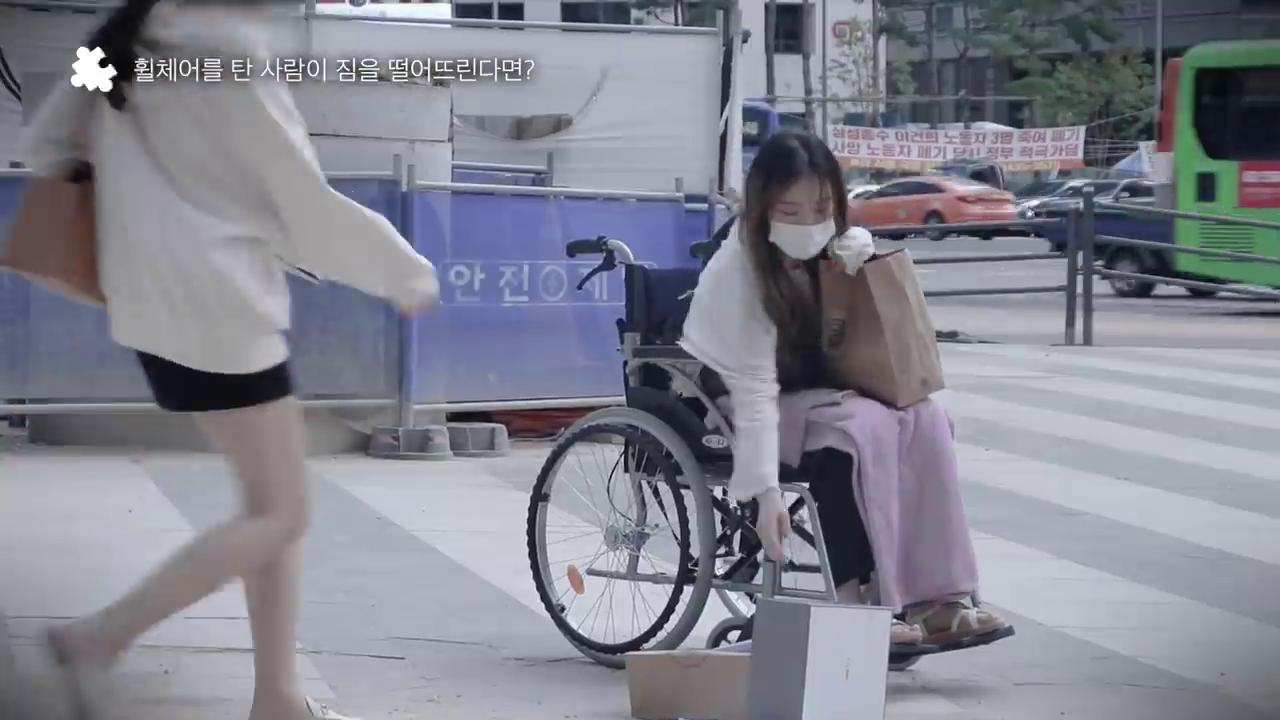wheelchair: (523, 132, 1015, 672)
